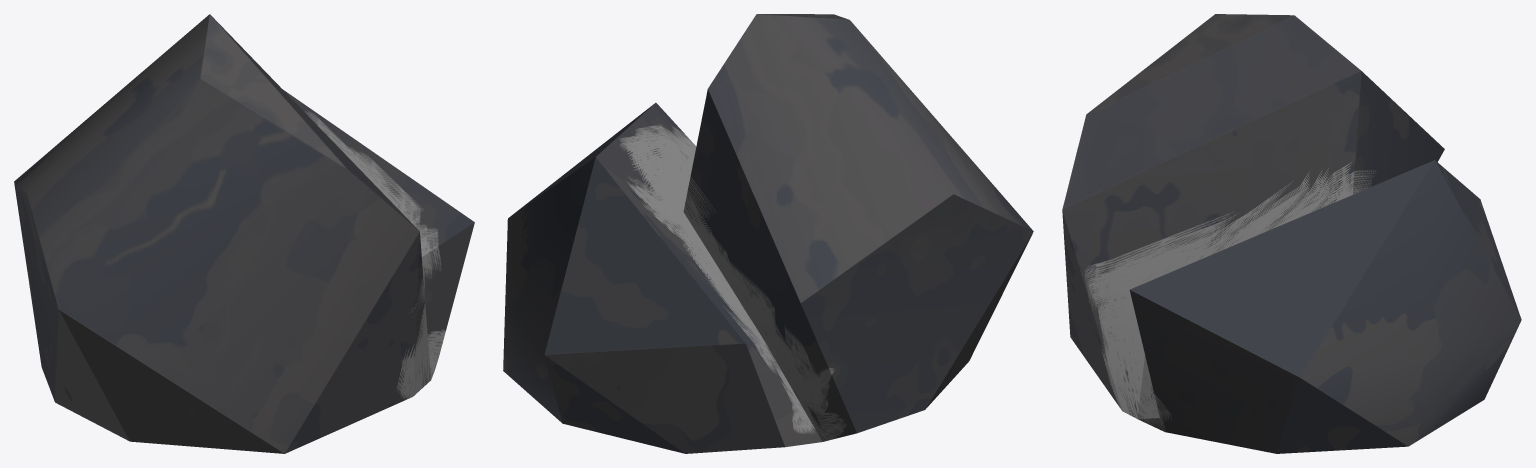
The model's file is Rock_002.fbx.
3 views of the same model, side by side, from view 1: azimuth 30°, elevation 25°; view 2: azimuth 150°, elevation 25°; view 3: azimuth 270°, elevation 25° (orthographic). The views are drawn at different scales.
Visible parts, largest first — view 1: Rock_002; view 2: Rock_002; view 3: Rock_002.
Boxes of the visible parts, x1,y1,x2,y2 form: Rock_002: (14, 14, 474, 453); Rock_002: (503, 14, 1033, 453); Rock_002: (1062, 14, 1521, 453).
Size of the model in its own units: 119 by 88.57 by 108.
1 material, 1 textured.
